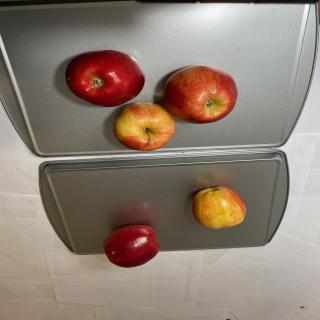Apple: (65, 50, 145, 107), (163, 64, 238, 124), (113, 102, 176, 151), (103, 224, 160, 268), (192, 186, 246, 229)
